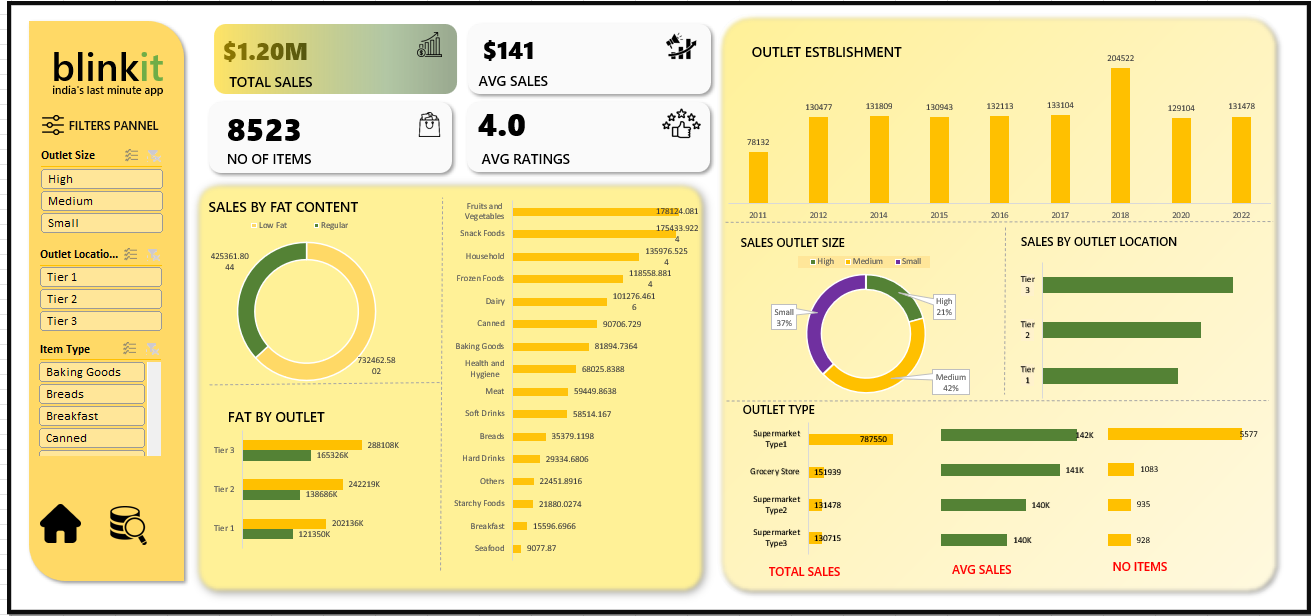

This screenshot's page, from the dashboard's own definition file:
{"tool":"powerbi","page":{"name":"blinkit project ","canvas":[1950,1100],"ordinal":0},"visuals":[{"type":"image","box":[72.9,875.7,92.9,40],"z":0},{"type":"shape","box":[0,50,245,1038.3],"z":1000},{"type":"textbox","box":[38.6,50,205.7,84.3],"z":2000},{"type":"textbox","box":[47.1,112.9,167.1,41.4],"z":3000},{"type":"cardVisual","fields":{"Data":["BlinkIT Grocery Data.avg sales"]},"box":[609.3,64.8,329.6,175],"z":4000},{"type":"cardVisual","fields":{"Data":["BlinkIT Grocery Data.avg_rating"]},"box":[609.8,262.7,329.4,174.5],"z":5000},{"type":"cardVisual","fields":{"Data":["BlinkIT Grocery Data.total sales"]},"box":[264.7,66.7,329.4,175],"z":6000},{"type":"cardVisual","fields":{"Data":["BlinkIT Grocery Data.no_of_item"]},"box":[264.7,252.9,329.4,174.5],"z":7000},{"type":"shape","box":[265.2,445.5,713.6,650],"z":8000},{"type":"donutChart","title":"FAT CONTENT ","fields":{"Y":["BlinkIT Grocery Data.avg sales"],"Category":["BlinkIT Grocery Data.Item Fat Content"]},"box":[275,542.3,315.4,228.8],"z":9000},{"type":"slicer","fields":{"Values":["matrix  2.matrix "]},"box":[368.6,462.7,464.7,39.2],"z":10000},{"type":"cardVisual","fields":{"Data":["BlinkIT Grocery Data.avg sales"]},"box":[384.4,640.6,96.9,68.8],"z":11000},{"type":"clusteredBarChart","title":"FAT BY OUTLET ","fields":{"Y":["BlinkIT Grocery Data.avg sales"],"Category":["BlinkIT Grocery Data.Outlet Location Type"],"Series":["BlinkIT Grocery Data.Item Fat Content"]},"box":[278.8,777.3,304.5,307.6],"z":12000},{"type":"shape","box":[277.3,743.9,331.8,53],"z":13000},{"type":"barChart","title":"ITEM TYPE ","fields":{"Y":["BlinkIT Grocery Data.avg sales"],"Category":["BlinkIT Grocery Data.Item Type"]},"box":[625.8,519.7,321.2,545.5],"z":15000},{"type":"shape","box":[971.8,43.6,951.3,1015.4],"z":16000},{"type":"lineChart","title":"OUTLET ESTABLISHMENT ","fields":{"Y":["BlinkIT Grocery Data.total sales"],"Category":["BlinkIT Grocery Data.Outlet Establishment Year"]},"box":[1000,93.3,923.3,338.9],"z":17000},{"type":"shape","box":[992.2,416.7,931.1,92.2],"z":18000},{"type":"donutChart","title":"OUTLET SIZE ","fields":{"Y":["BlinkIT Grocery Data.total sales"],"Category":["BlinkIT Grocery Data.Outlet Size"]},"box":[1000,474.4,438.5,287.2],"z":19000},{"type":"shape","box":[531.8,519.7,174.2,539.4],"z":20000},{"type":"funnel","title":"OUTLET LOCATION ","fields":{"Y":["Sum(BlinkIT Grocery Data.Sales)"],"Category":["BlinkIT Grocery Data.Outlet Location Type"]},"box":[1476.7,476.7,427.9,300],"z":21000},{"type":"shape","box":[703.9,1062.7,933.3,92.2],"z":22000},{"type":"pivotTable","title":"OUTLET TYPE ","fields":{"Rows":["BlinkIT Grocery Data.Outlet Type"],"Values":["BlinkIT Grocery Data.total sales","BlinkIT Grocery Data.no_of_item","BlinkIT Grocery Data.avg sales","BlinkIT Grocery Data.avg_rating","Sum(BlinkIT Grocery Data.Item Visibility)"]},"box":[1000,787.2,905.1,282.1],"z":23000},{"type":"slicer","title":"OUTLET LOCATION","fields":{"Values":["BlinkIT Grocery Data.Outlet Location Type"]},"box":[40,485,151.7,56.7],"z":24000},{"type":"slicer","title":"OUTLET SIZE ","fields":{"Values":["BlinkIT Grocery Data.Outlet Size"]},"box":[38.3,321.7,151.7,58.3],"z":25000},{"type":"slicer","title":"ITEM TYPE ","fields":{"Values":["BlinkIT Grocery Data.Item Type"]},"box":[40,401.7,151.7,60],"z":26000},{"type":"textbox","box":[68.3,248.3,133.3,38.3],"z":27000},{"type":"image","box":[13.3,248.3,80,38.3],"z":28000},{"type":"image","box":[503.9,84.3,84.3,49],"z":29000},{"type":"image","box":[851,84.3,86.3,47.1],"z":30000},{"type":"image","box":[509.8,274.5,84.3,49],"z":31000},{"type":"image","box":[841.2,272.5,105.9,60.8],"z":32000},{"type":"image","box":[515.7,194.1,86.3,35.3],"z":33000},{"type":"image","box":[851,194.1,86.3,35.3],"z":34000},{"type":"image","box":[860.8,388.2,86.3,35.3],"z":35000},{"type":"image","box":[515.7,380.4,86.3,35.3],"z":36000},{"type":"image","box":[860.8,462.7,64.7,47.1],"z":37000},{"type":"shape","box":[992.2,748.9,931.1,53.3],"z":38000},{"type":"shape","box":[1385.7,461.9,71.4,314.3],"z":39000},{"type":"image","box":[16.7,550,228.3,550],"z":45000},{"type":"image","box":[10.3,120.5,164.1,166.7],"z":45001}]}

Visuals, with their boxes on the page's 1950x1100 design canvas (x1, y1, x2, y2). These are canvas units, not pixel positions in the 1311x616 screenshot, which may show the page scaled, cropped or inside an application window:
image: 73/876/166/916
shape: 0/50/245/1088
textbox: 39/50/244/134
textbox: 47/113/214/154
cardVisual - BlinkIT Grocery Data.avg sales: 609/65/939/240
cardVisual - BlinkIT Grocery Data.avg_rating: 610/263/939/437
cardVisual - BlinkIT Grocery Data.total sales: 265/67/594/242
cardVisual - BlinkIT Grocery Data.no_of_item: 265/253/594/427
shape: 265/446/979/1096
"FAT CONTENT " donutChart: 275/542/590/771
slicer - matrix  2.matrix : 369/463/833/502
cardVisual - BlinkIT Grocery Data.avg sales: 384/641/481/709
"FAT BY OUTLET " clusteredBarChart: 279/777/583/1085
shape: 277/744/609/797
"ITEM TYPE " barChart: 626/520/947/1065
shape: 972/44/1923/1059
"OUTLET ESTABLISHMENT " lineChart: 1000/93/1923/432
shape: 992/417/1923/509
"OUTLET SIZE " donutChart: 1000/474/1438/762
shape: 532/520/706/1059
"OUTLET LOCATION " funnel: 1477/477/1905/777
shape: 704/1063/1637/1155
"OUTLET TYPE " pivotTable: 1000/787/1905/1069
"OUTLET LOCATION" slicer: 40/485/192/542
"OUTLET SIZE " slicer: 38/322/190/380
"ITEM TYPE " slicer: 40/402/192/462
textbox: 68/248/202/287
image: 13/248/93/287
image: 504/84/588/133
image: 851/84/937/131
image: 510/274/594/324
image: 841/272/947/333
image: 516/194/602/229
image: 851/194/937/229
image: 861/388/947/424
image: 516/380/602/416
image: 861/463/926/510
shape: 992/749/1923/802
shape: 1386/462/1457/776
image: 17/550/245/1100
image: 10/120/174/287
